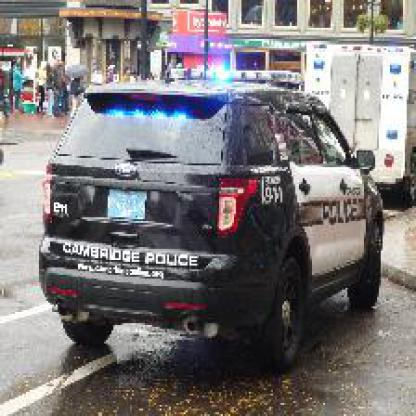emergency: (28, 58, 386, 358)
